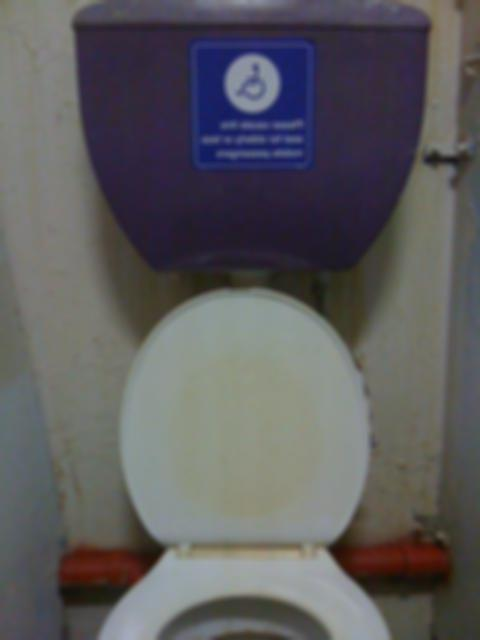Sanitario: (88, 294, 392, 639)
